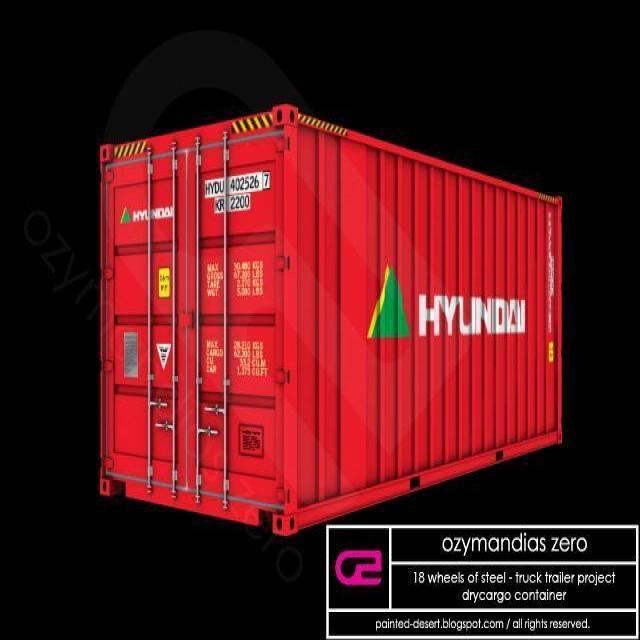ISO: (210, 194, 256, 212)
container_number: (206, 176, 274, 193)
